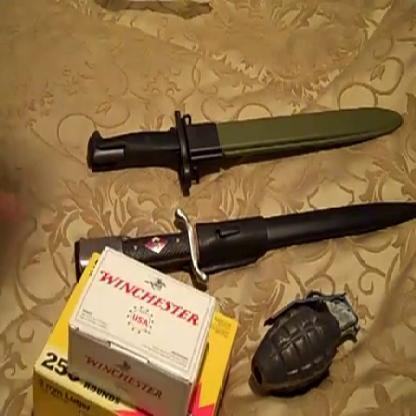Grenade: (251, 290, 362, 397)
Knife: (74, 201, 416, 286), (87, 109, 403, 193)
